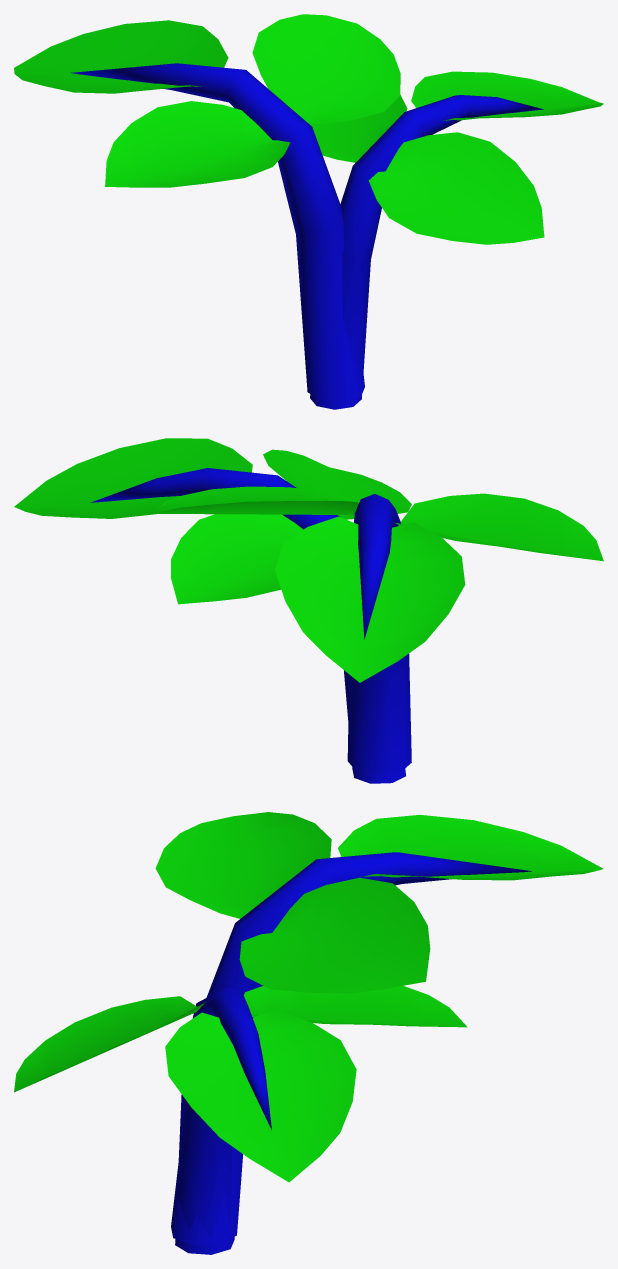
File: Potato_2.fbx
3 renders of one model, top to bottom at view 1: azimuth 30°, elevation 25°; view 2: azimuth 150°, elevation 25°; view 3: azimuth 270°, elevation 25°, orthographic. The views are drawn at different scales.
Visible parts, largest first — view 1: BSTC_Potato_2; view 2: BSTC_Potato_2; view 3: BSTC_Potato_2.
Boxes of the visible parts, bbox=[...] form: BSTC_Potato_2: bbox=[14, 14, 603, 409]; BSTC_Potato_2: bbox=[14, 438, 603, 783]; BSTC_Potato_2: bbox=[14, 812, 603, 1254].
Bounding box in the file's own units: 53.42 × 30.26 × 44.85.
